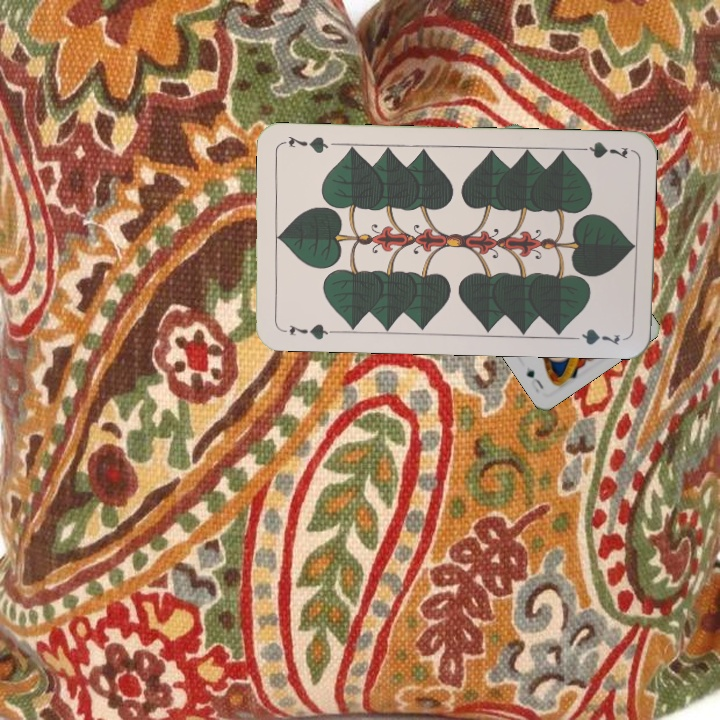G7: (572, 138, 631, 162), (285, 320, 336, 342)
